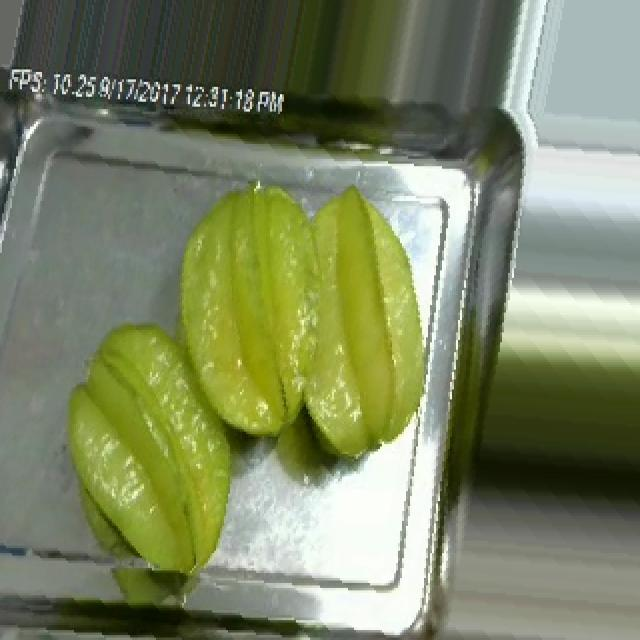fruit: (132, 164, 460, 474), (46, 298, 264, 600)
